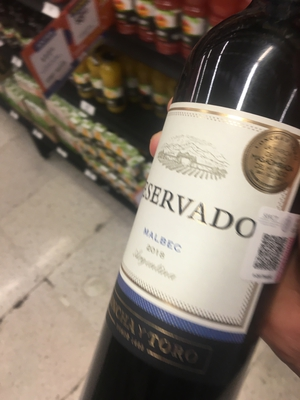reservado malbec: (93, 46, 298, 400)
